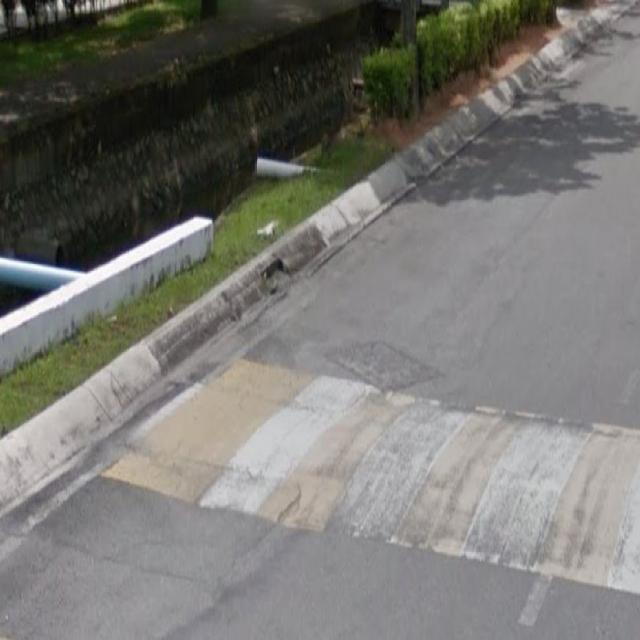speed-bump: (105, 300, 640, 600)
